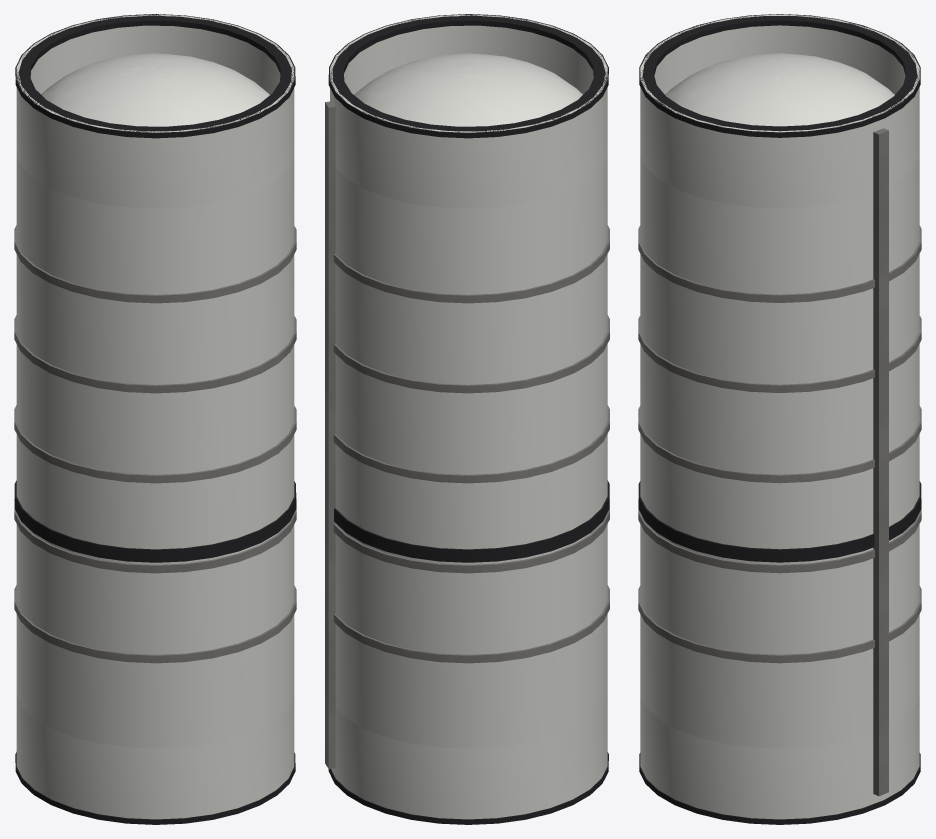
File: tank00_kerolox_m.glb
The picture shows the model from 3 angles, left to right: view 1: azimuth 30°, elevation 25°; view 2: azimuth 150°, elevation 25°; view 3: azimuth 270°, elevation 25°; orthographic projection.
Parts seen in each view (by area): view 1: tank, skirts, ring_frames, stack_flanges, bulkhead_band; view 2: tank, skirts, ring_frames, stack_flanges, raceway, bulkhead_band; view 3: tank, skirts, ring_frames, raceway, stack_flanges, bulkhead_band.
Part boxes in pixels (x1,y1,x2,y2): tank: (16, 53, 294, 748); skirts: (16, 14, 294, 819); ring_frames: (14, 225, 296, 663); stack_flanges: (15, 14, 295, 824); bulkhead_band: (14, 480, 296, 562); tank: (335, 53, 607, 748); skirts: (330, 14, 607, 819); ring_frames: (333, 225, 609, 663); stack_flanges: (328, 14, 608, 824); raceway: (325, 101, 335, 768); bulkhead_band: (334, 480, 609, 562); tank: (640, 53, 919, 748); skirts: (640, 14, 919, 819); ring_frames: (638, 225, 921, 663); raceway: (873, 128, 888, 796); stack_flanges: (639, 14, 920, 824); bulkhead_band: (638, 481, 921, 562).
Bounding box in the file's own units: 2.54 × 6.84 × 2.54.
3 materials, 1 textured.
